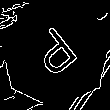P_SE: (26, 21, 85, 83)
